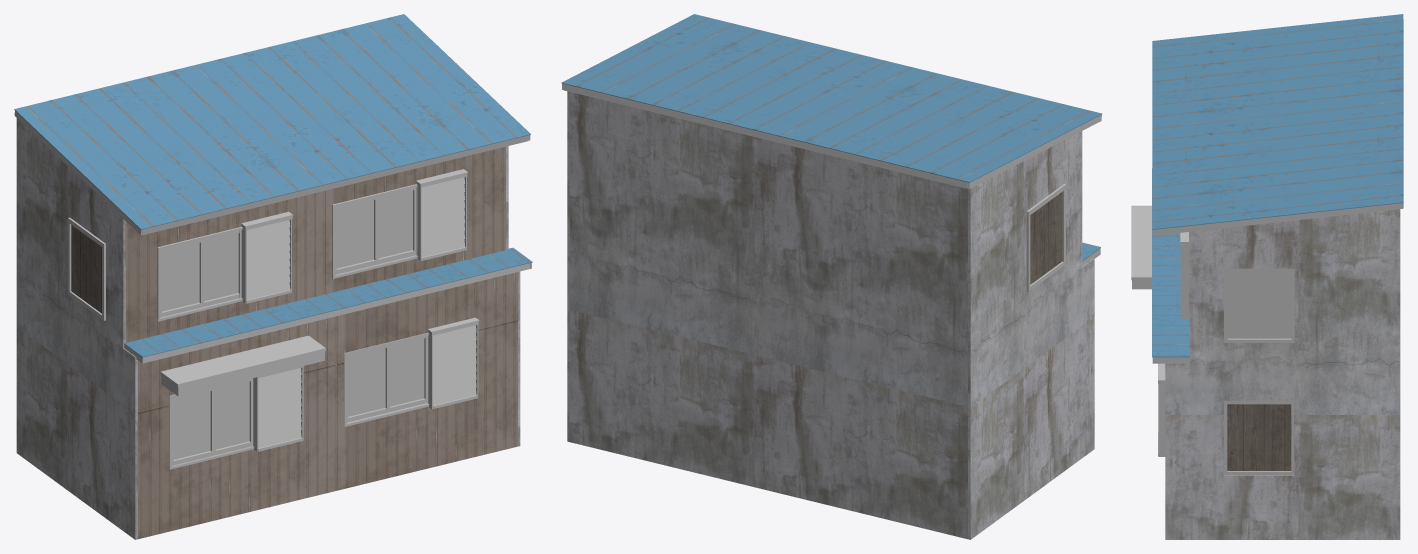
File: JpHouse_25a.fbx
The picture shows the model from 3 angles, left to right: view 1: azimuth 30°, elevation 25°; view 2: azimuth 150°, elevation 25°; view 3: azimuth 270°, elevation 25°; orthographic projection. The views are drawn at different scales.
Visible parts, largest first — view 1: JpHouse_25a; view 2: JpHouse_25a; view 3: JpHouse_25a.
Boxes of the visible parts, box(x1,y1,x2,y2) form: JpHouse_25a: box(14, 14, 532, 539); JpHouse_25a: box(561, 14, 1102, 539); JpHouse_25a: box(1131, 14, 1403, 539).
Bounding box in the file's own units: 7.64 × 6.38 × 4.64.
